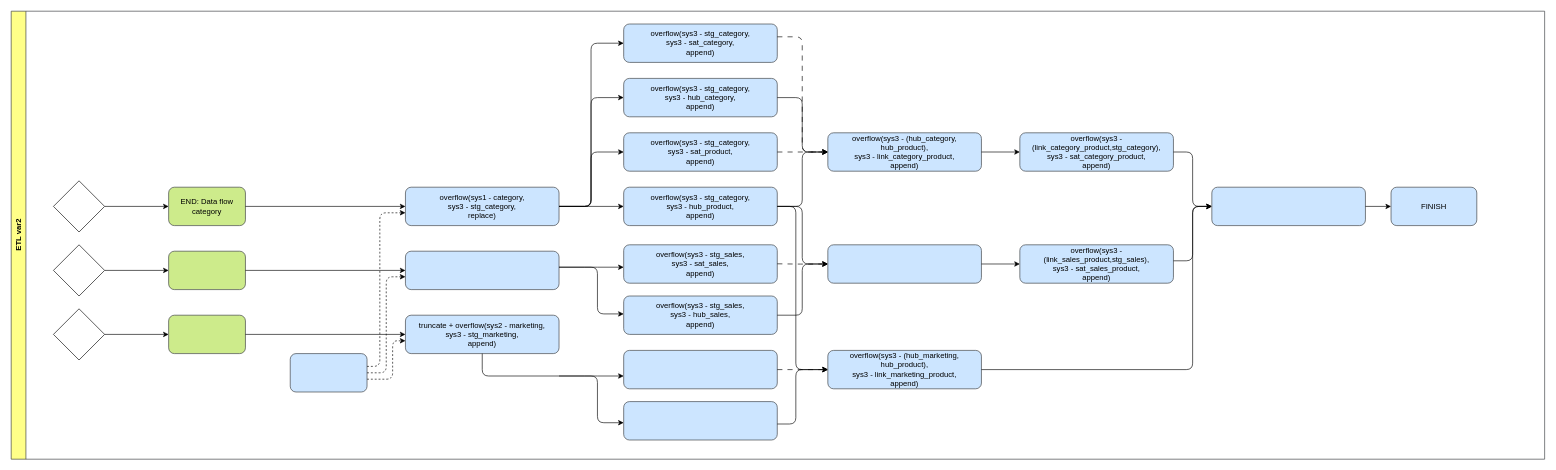
The diagram is 1556 pixels wide and 470 high, and some of its shapes have lost their labels. The centre of each missing label's shape, as x and y in pixels:
END: Data flow marketing: [206,334]
END: Data flow sales: [206,270]
overflow( sys3 - (hub_sales, hub_product), sys3 - link_sales_product, append ): [904,263]
overflow( sys3 - dds , sys3 - cdm_sales_dboard, append ): [1288,206]
overflow( sys3 - stg_marketing, sys3 - hub_marketing, append ): [700,420]
overflow( sys3 - stg_marketing, sys3 - sat_marketing, append ): [700,369]
START: [328,372]
truncate + overflow( sys1 - sales, sys3 - stg_sales, append ): [482,270]
